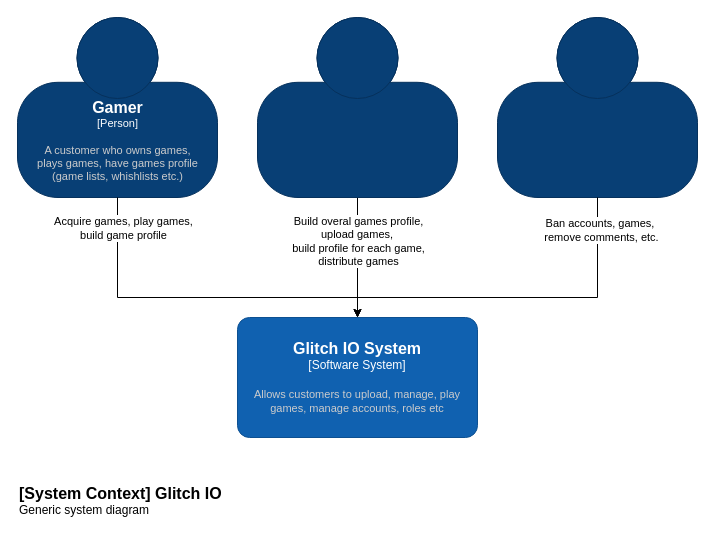
Image size: 715x536. Some labels were removed from this diagram. Each missing label, with the centre of its shape:
Administrator [Person] Manages system: accounts, content, comments etc.: (597,107)
Game Creator [Person] A customer who creates and distributes games: (357,107)
